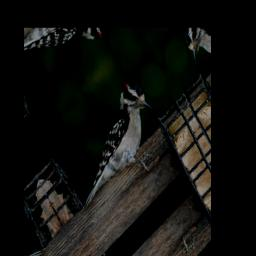Woodpecker: (55, 74, 172, 230)
